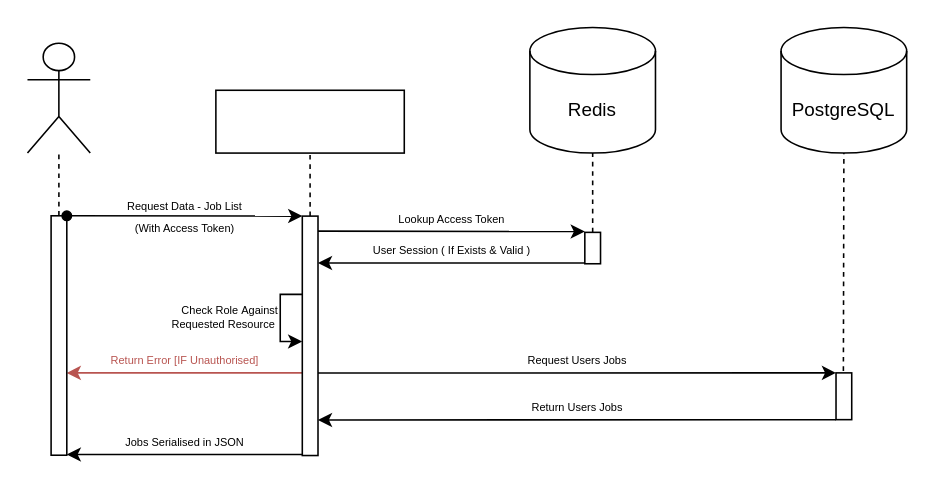
This 934x495 diagram has some shape labels left out. The centre of each missing label's shape, as x and y in pixels:
GO/GIN Web API: pixel 309 121
User: pixel 58 97
